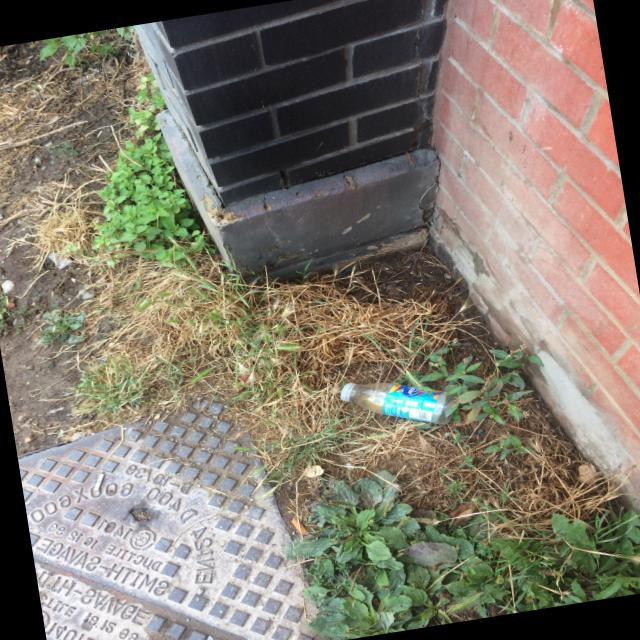less trash: (340, 382, 454, 425)
